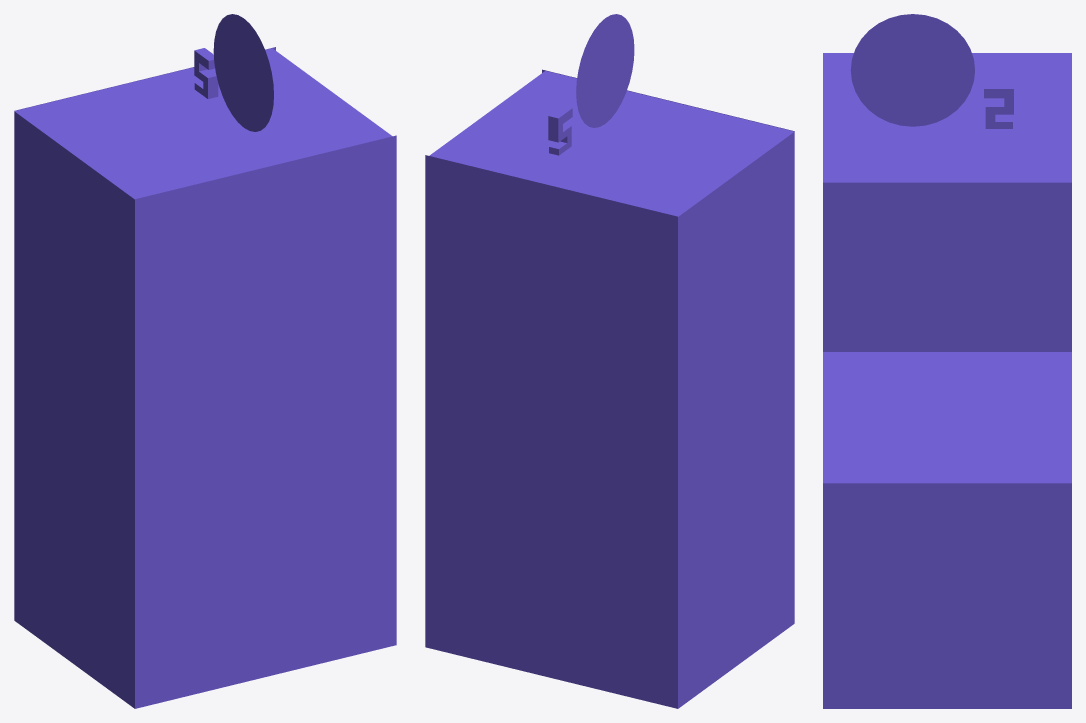
File: Oxygen_Machine.fbx
3 views of the same model, side by side, from view 1: azimuth 30°, elevation 25°; view 2: azimuth 150°, elevation 25°; view 3: azimuth 270°, elevation 25° (orthographic). The views are drawn at different scales.
Parts seen in each view (by area): view 1: Oxygen_Machine; view 2: Oxygen_Machine; view 3: Oxygen_Machine.
Part boxes in pixels (x1,y1,x2,y2): Oxygen_Machine: (14,14,396,708); Oxygen_Machine: (425,14,794,708); Oxygen_Machine: (823,14,1071,708).
Size of the model in its own units: 2 by 2.5 by 5.68.
